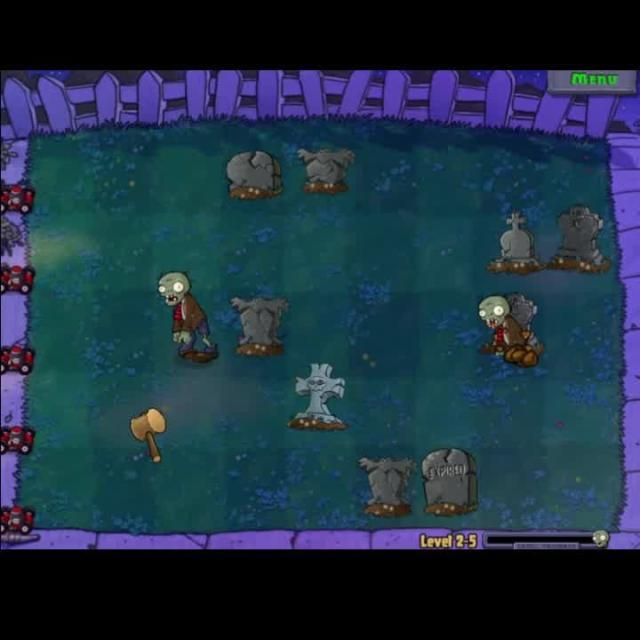zombies: (152, 268, 222, 368), (476, 288, 528, 364)
